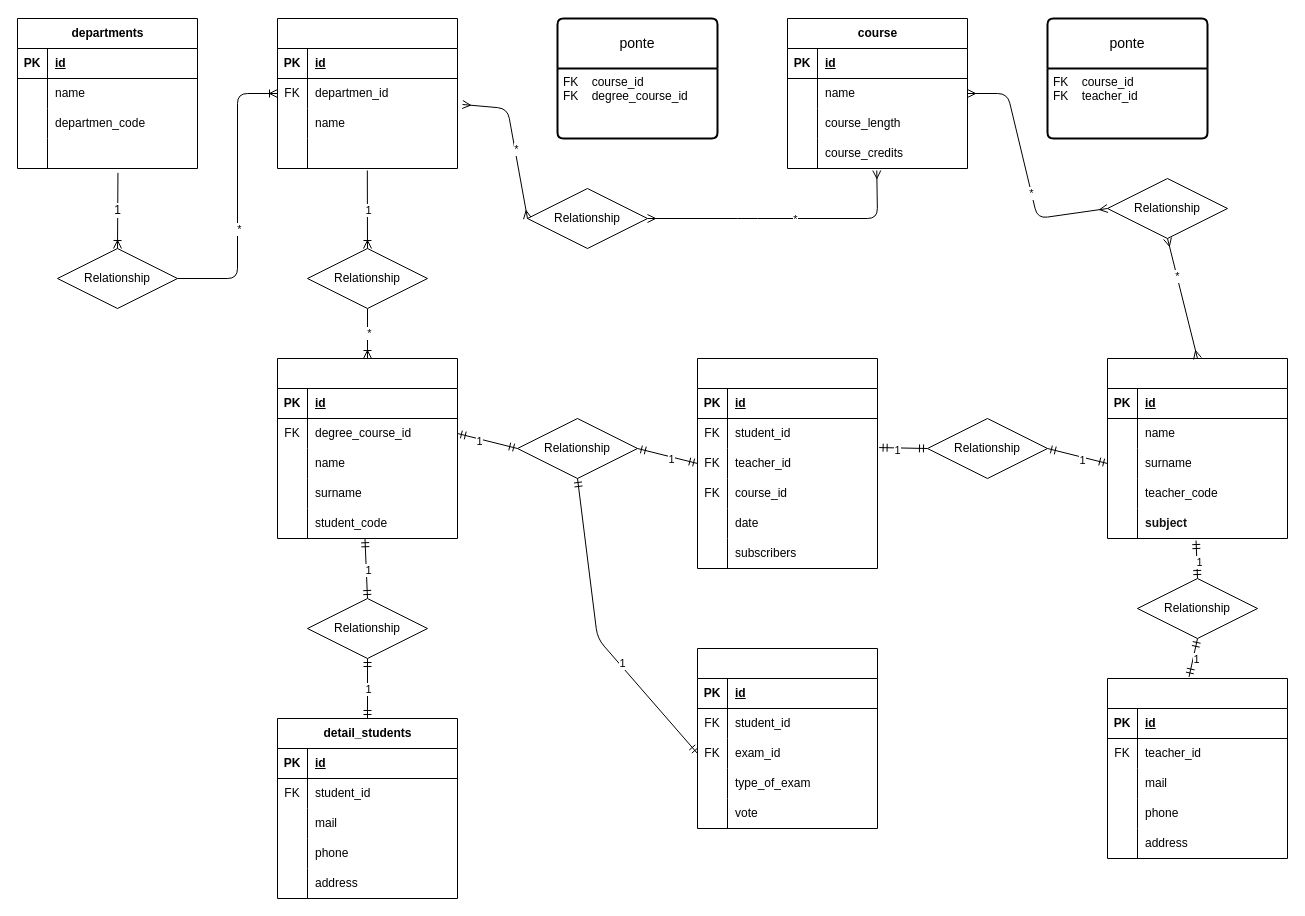
Image size: 1305x916. Some labels were removed from this diagram. The box of each missing label's shape, as (x1, y1, x2, y2) in pixels:
degree_course: (276, 18, 458, 168)
detail_teachers: (1106, 678, 1288, 858)
exams: (696, 358, 878, 568)
results: (696, 648, 878, 828)
students: (276, 358, 458, 538)
teachers: (1106, 358, 1288, 538)
